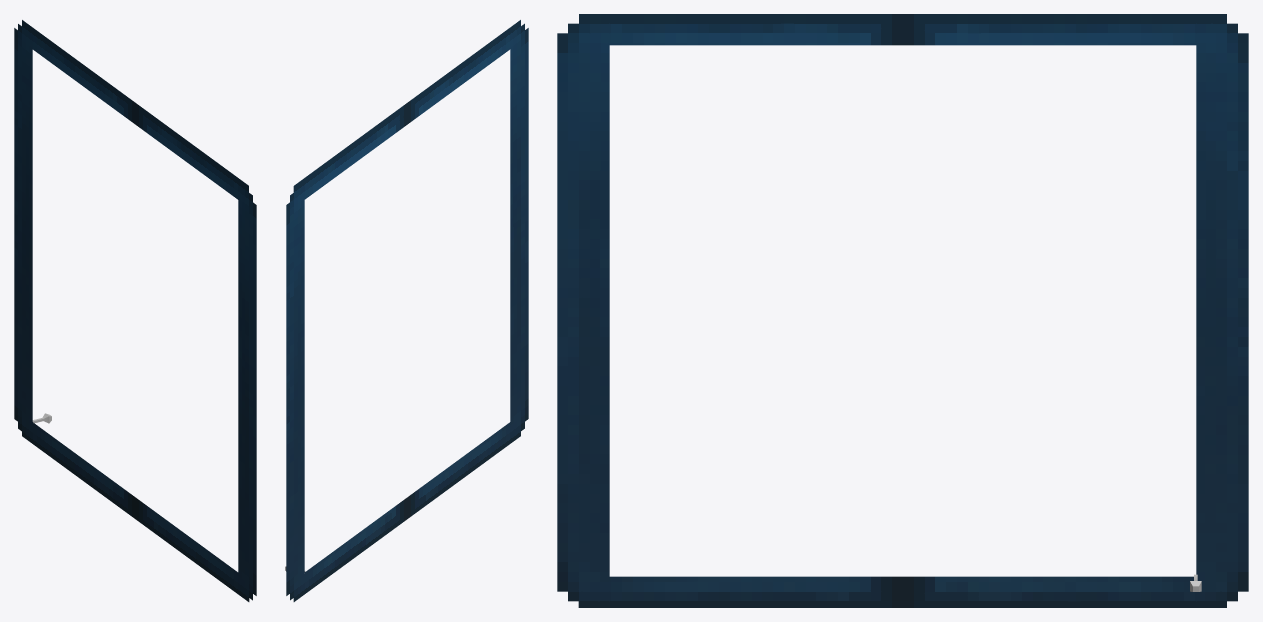
File: atlascover.obj
3 views of the same model, side by side, from view 1: azimuth 30°, elevation 25°; view 2: azimuth 150°, elevation 25°; view 3: azimuth 270°, elevation 25° (orthographic). The views are drawn at different scales.
Parts seen in each view (by area): view 1: atlascover; view 2: atlascover; view 3: atlascover.
Boxes of the visible parts, x1=… form: atlascover: x1=14, y1=20, x2=256, y2=601; atlascover: x1=286, y1=20, x2=528, y2=601; atlascover: x1=557, y1=14, x2=1248, y2=607.
Bounding box in the file's own units: 0.0516 × 1.12 × 1.18.
